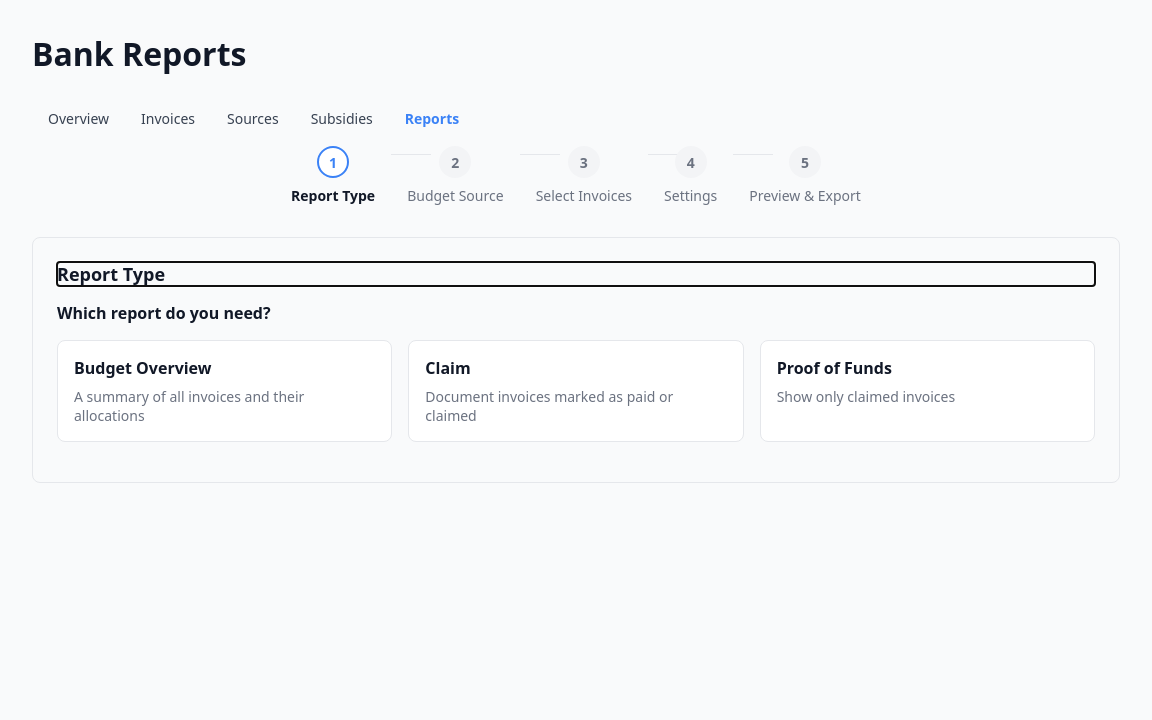
Test case: ReportWizardPage › prefills the source from ?sourceId= and carries through to a loaded step-3 report
Expected: the element named "Which report do you need?" is shown, [57, 340, 1095, 442]
Click the radio button labelled "Claim Document invoices marked as paid or claimed" at {"x": 576, "y": 391}, box [408, 340, 744, 442]
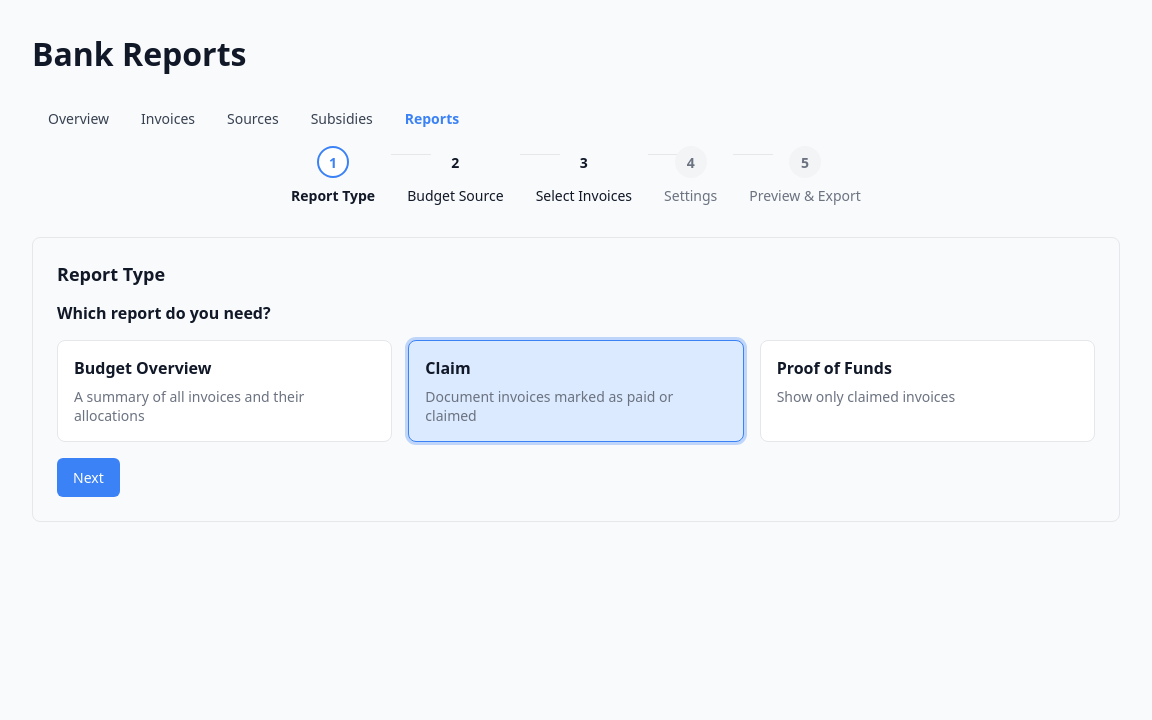
Click the button "Next" at {"x": 88, "y": 478}, box [57, 458, 120, 497]
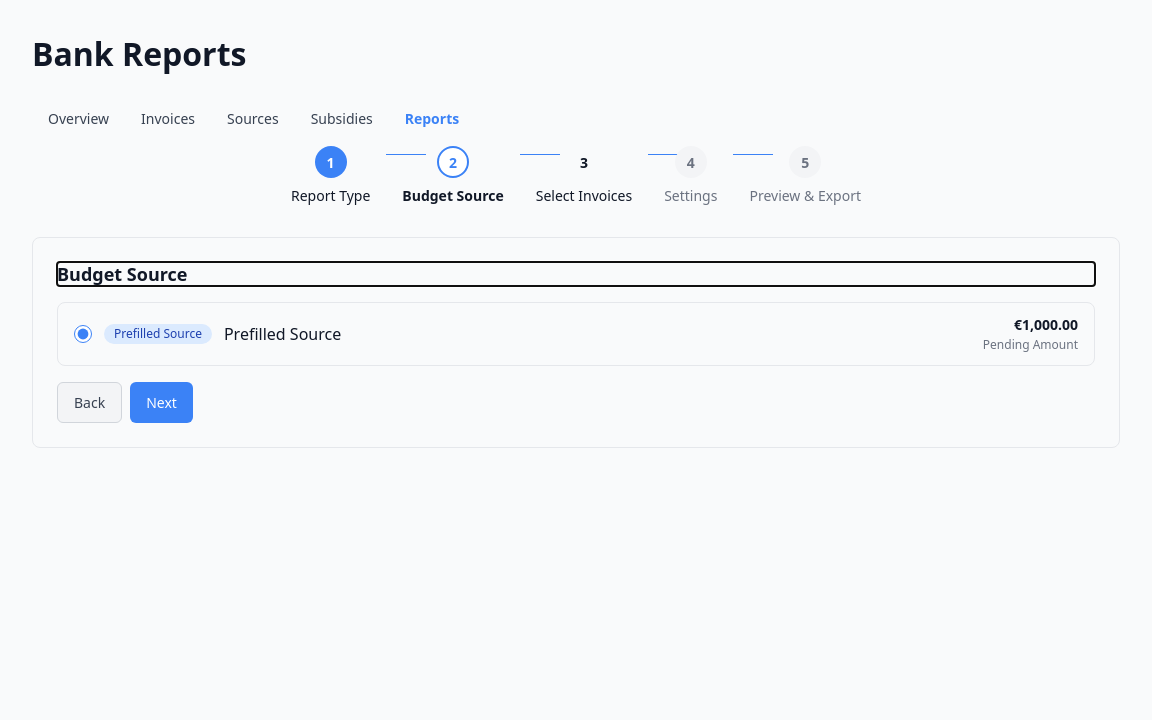
Click the button "Next" at {"x": 162, "y": 402}, box [130, 382, 193, 423]
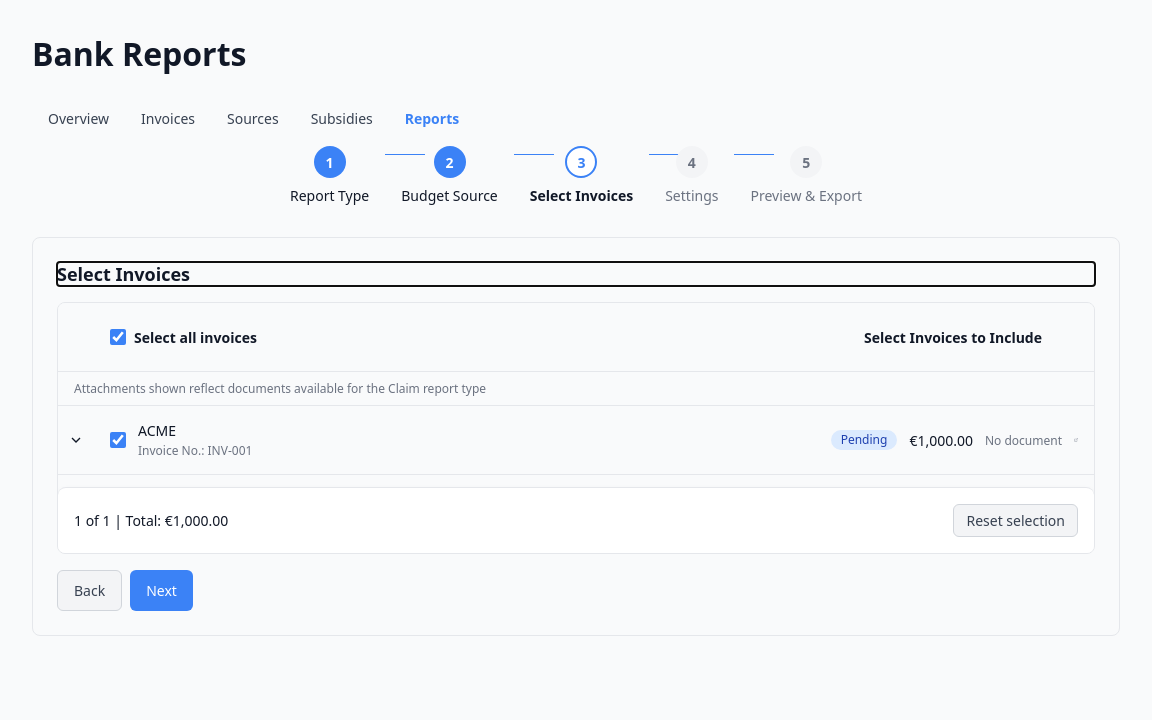
Result: the text "ACME" is shown at [138, 421, 176, 440]
